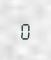zero: (19, 19, 29, 40)
